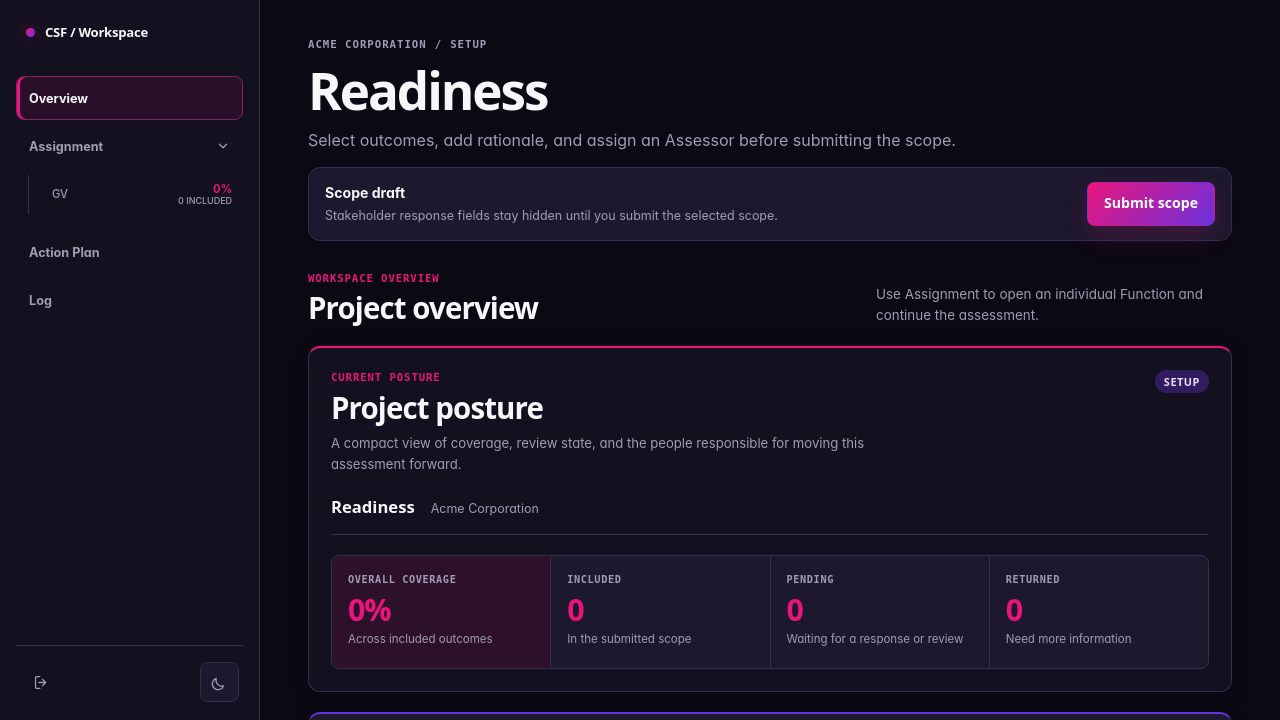
Test: renders the assessment while audit activity is still loading
Expected: the heading "Readiness" is shown, [308,56,547,126]
Click the button "Log": coordinates (130, 300) [16,278,243,322]
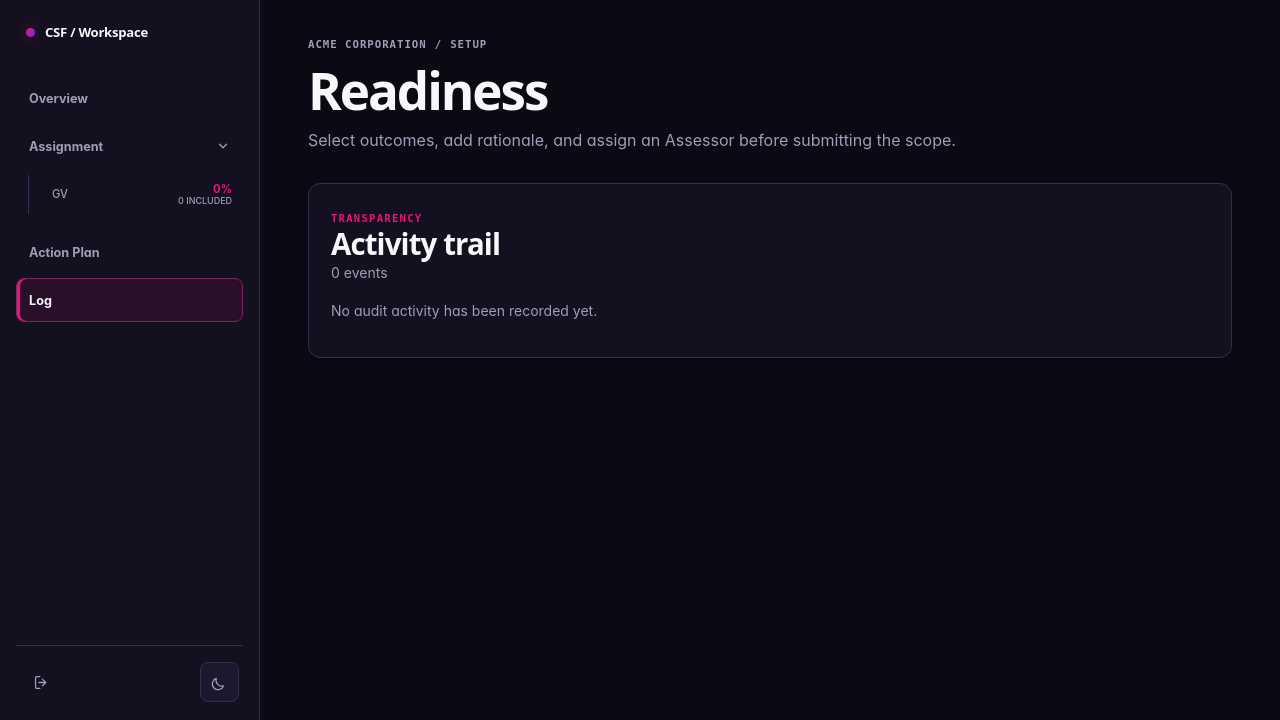
Result: the text "Loading activity trail…" is shown at [331,302,597,319]
